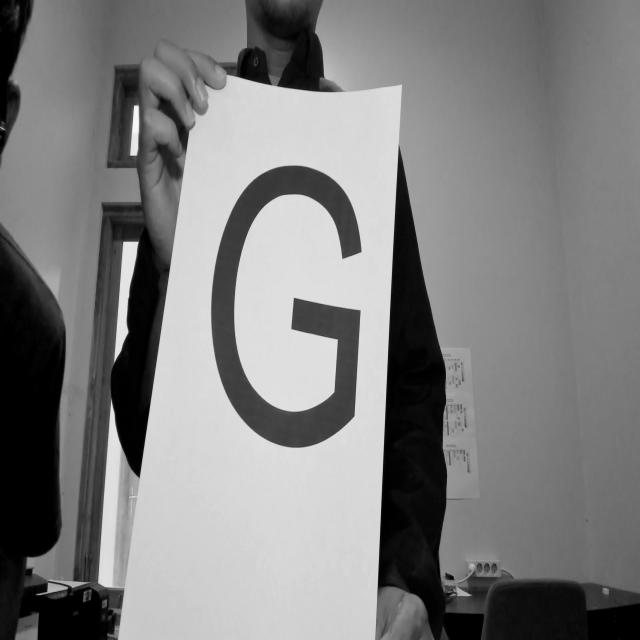g: (201, 142, 373, 470)
